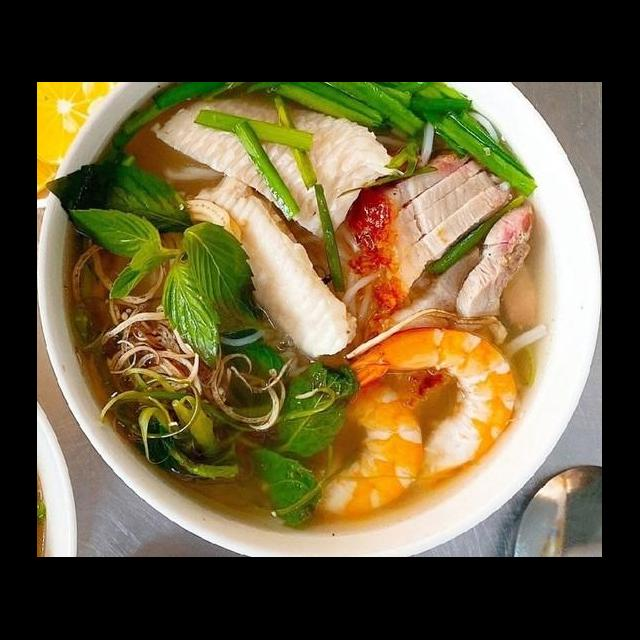ca: (150, 90, 410, 240), (178, 168, 360, 362)
thit heo quay: (362, 180, 514, 314), (344, 168, 498, 280), (354, 154, 488, 248), (452, 202, 542, 328), (352, 148, 469, 222)
tom: (316, 318, 526, 498), (292, 372, 438, 522)
